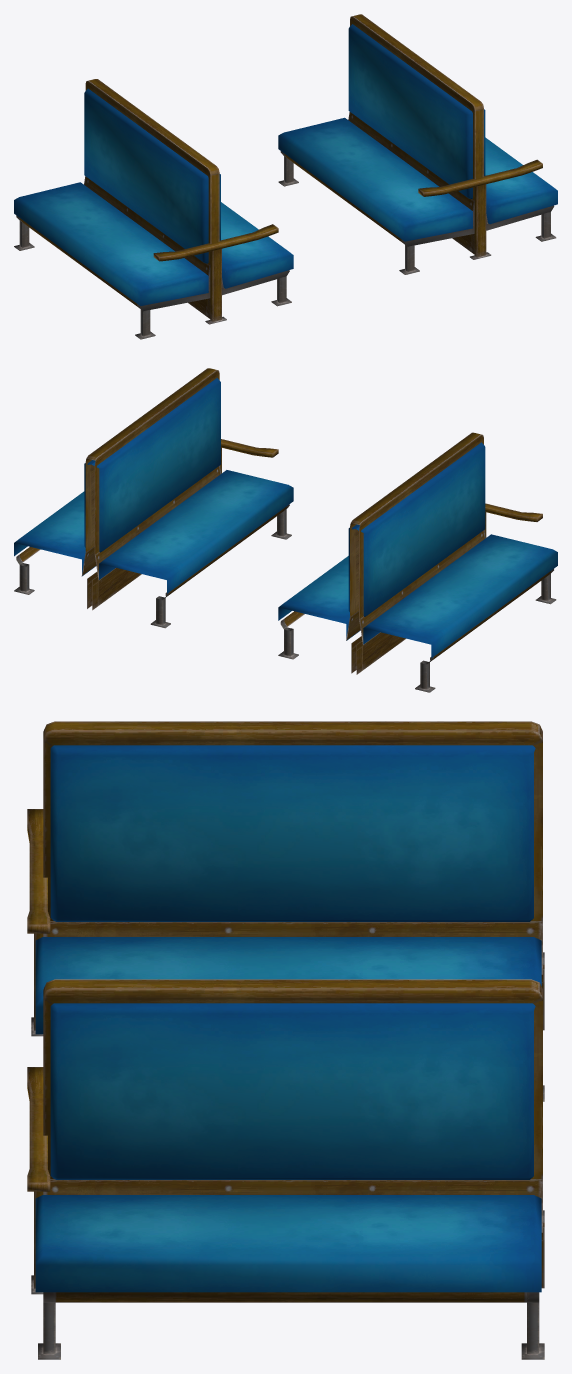
Rendered from TrainChiar1.fbx.
3 renders of one model, top to bottom at view 1: azimuth 30°, elevation 25°; view 2: azimuth 150°, elevation 25°; view 3: azimuth 270°, elevation 25°, orthographic. The views are drawn at different scales.
Parts seen in each view (by area): view 1: SM_a_006_LocomotiveChair_01a; view 2: SM_a_006_LocomotiveChair_01a; view 3: SM_a_006_LocomotiveChair_01a.
Part boxes in pixels (box(x1,y1,x2,y2)): SM_a_006_LocomotiveChair_01a: box(14, 14, 557, 339); SM_a_006_LocomotiveChair_01a: box(14, 368, 557, 692); SM_a_006_LocomotiveChair_01a: box(27, 721, 544, 1359).
Bounding box in the file's own units: 315 × 109 × 169.
1 material, 1 textured.
